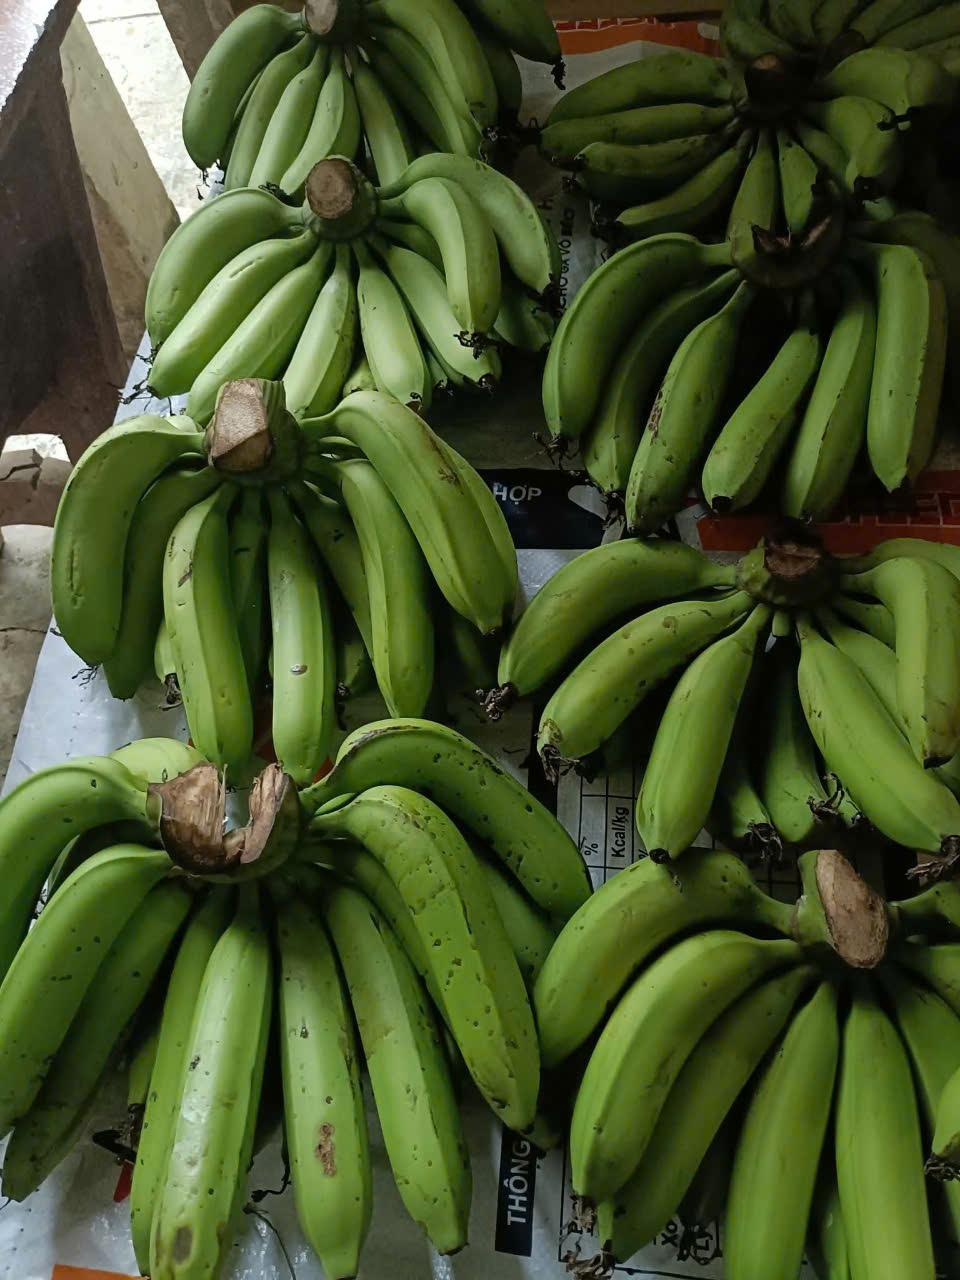banana: (250, 737, 573, 1275), (563, 840, 917, 1280), (3, 730, 235, 1275), (63, 380, 295, 772), (517, 497, 770, 845), (283, 393, 508, 717), (567, 213, 802, 493), (320, 147, 563, 397), (130, 133, 337, 395), (797, 190, 960, 517), (787, 530, 960, 832), (170, 0, 373, 178)
